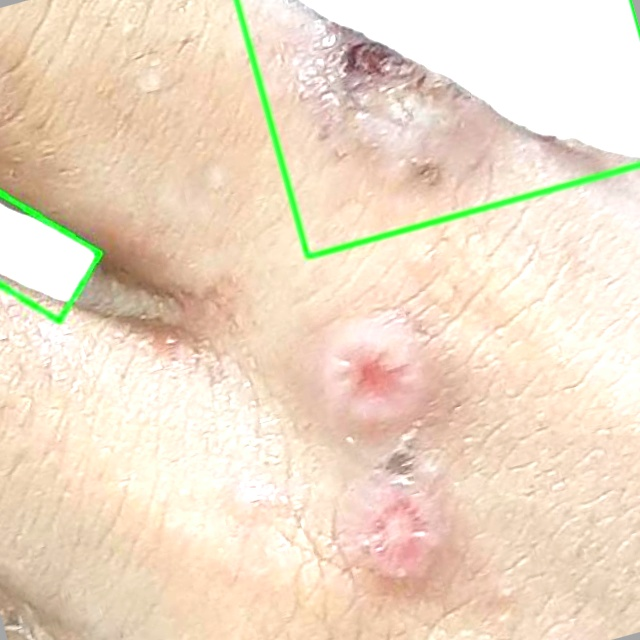Scabies: (236, 0, 639, 258)
